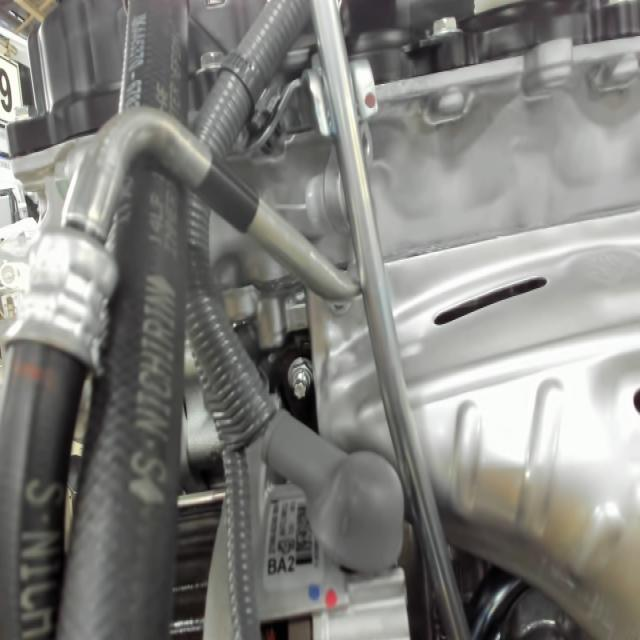Alternator-BA2: (262, 551, 314, 587)
Hose Discharge-HT: (189, 152, 261, 238)
